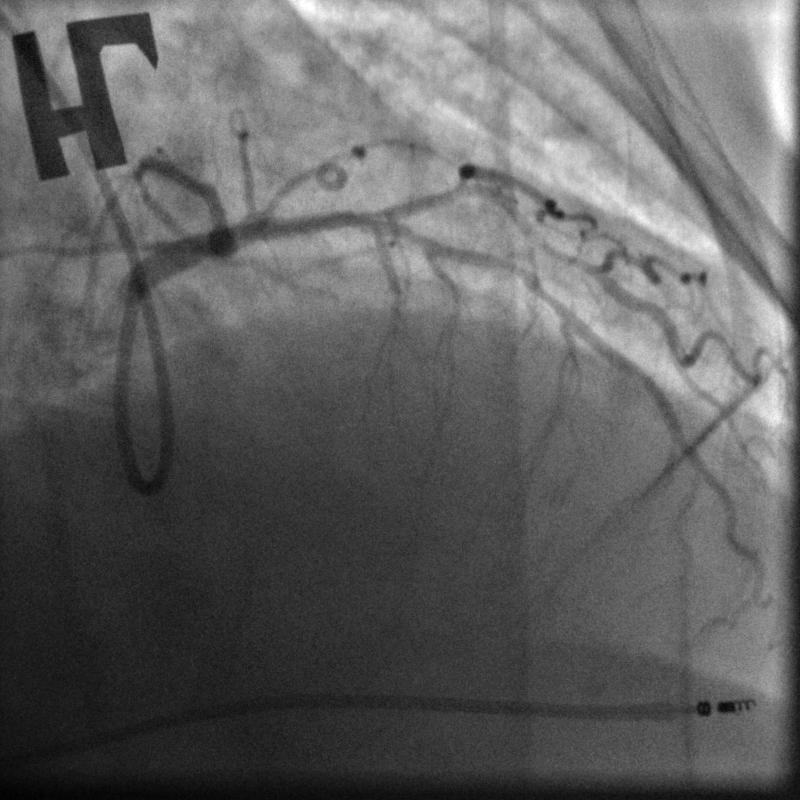Stenosis: (478, 247, 538, 289)
